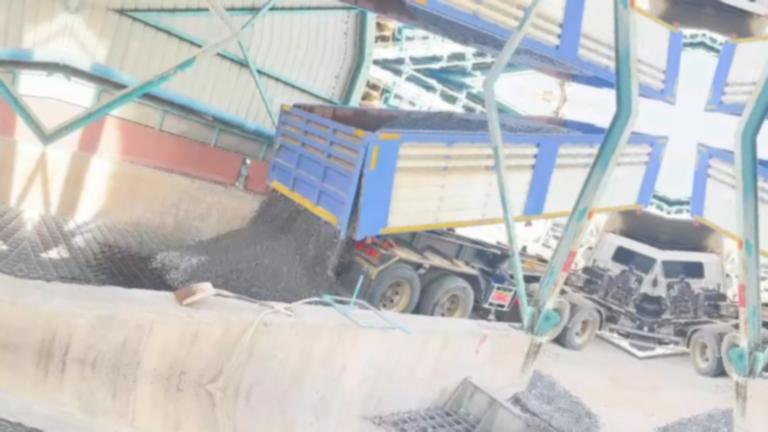gravel: (153, 194, 343, 302), (510, 371, 619, 432), (378, 111, 488, 132), (499, 114, 578, 132)
